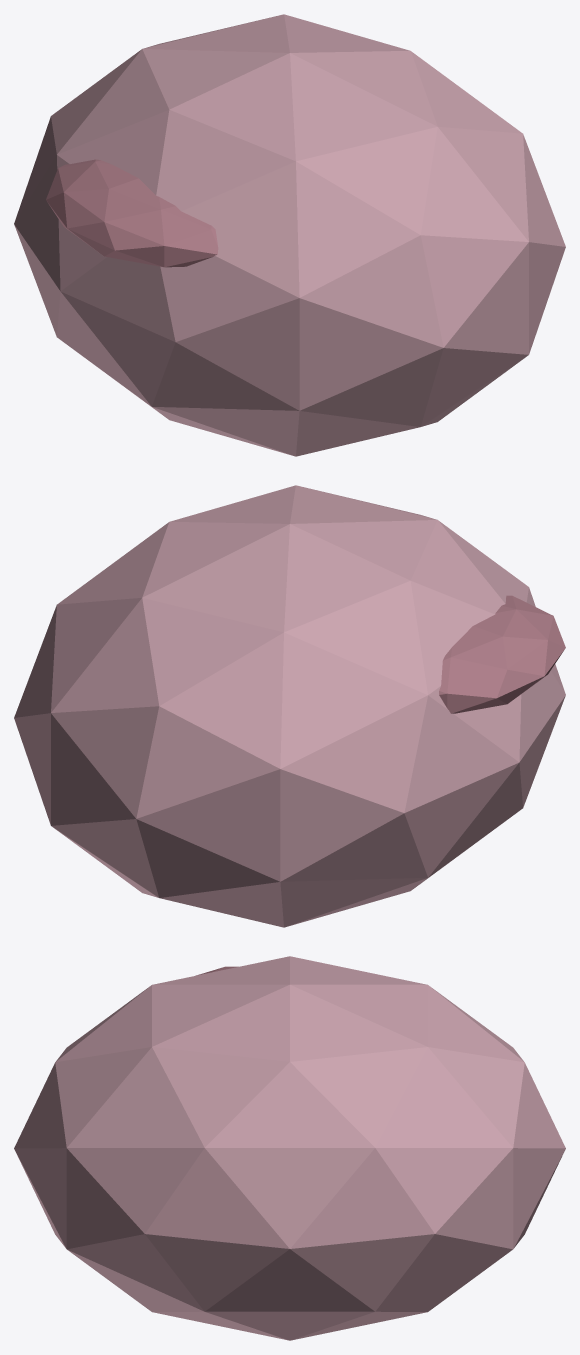
The model's file is pregnancy-t2-low.glb.
The picture shows the model from 3 angles, top to bottom: view 1: azimuth 30°, elevation 25°; view 2: azimuth 150°, elevation 25°; view 3: azimuth 270°, elevation 25°; orthographic projection. The views are drawn at different scales.
Parts seen in each view (by area): view 1: uterus, placenta; view 2: uterus, placenta; view 3: uterus.
Boxes of the visible parts, x1=… form: uterus: x1=14, y1=14, x2=565, y2=456; placenta: x1=46, y1=159, x2=218, y2=267; uterus: x1=14, y1=485, x2=565, y2=927; placenta: x1=439, y1=595, x2=565, y2=713; uterus: x1=14, y1=956, x2=565, y2=1340.
Size of the model in its own units: 2.55 by 1.9 by 2.9.
